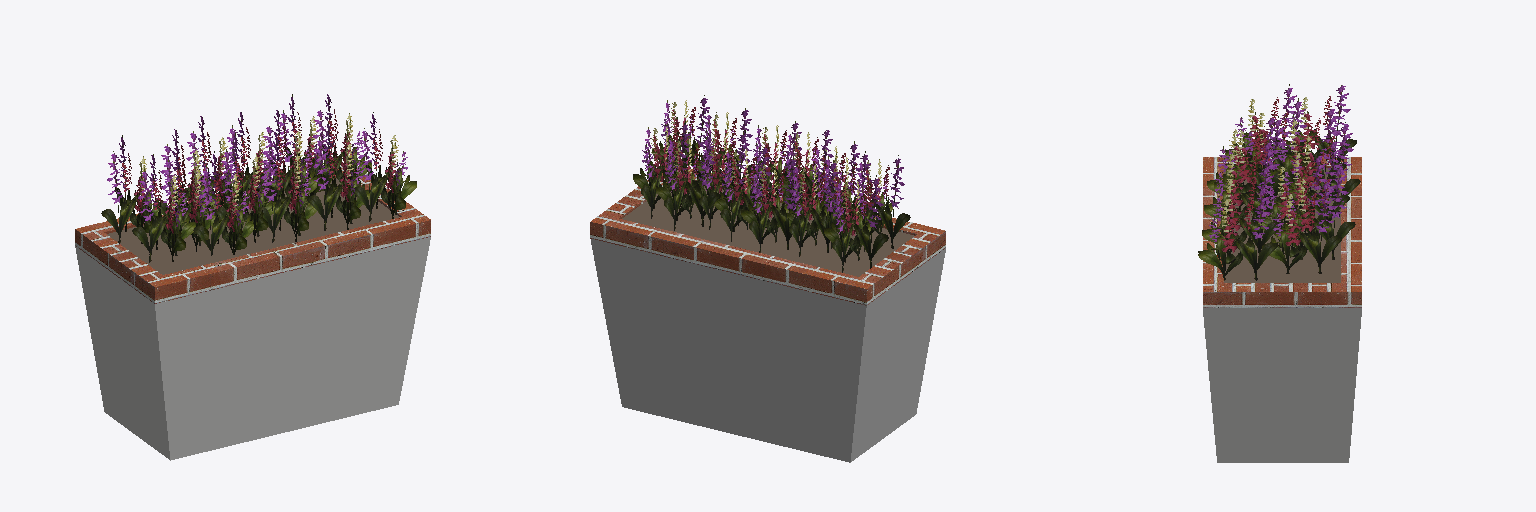
The picture shows the model from 3 angles: view 1: azimuth 30°, elevation 25°; view 2: azimuth 150°, elevation 25°; view 3: azimuth 270°, elevation 25°; orthographic projection.
Visible parts, largest first — view 1: Mesh29 Model, Mesh17 Orchid9 Model, Mesh23 Orchid12 Model, Mesh15 Orchid8 Model, Mesh19 Orchid10 Model, Mesh7 Orchid4 Model, Mesh11 Orchid6 Model, Mesh21 Orchid11 Model, Mesh25 Orchid13 Model, Mesh5 Orchid3 Model, Mesh8 Orchid4 Model, Mesh24 Orchid12 Model (+9 smaller); view 2: Mesh29 Model, Mesh11 Orchid6 Model, Mesh3 Orchid2 Model, Mesh27 Orchid14 Model, Mesh13 Orchid7 Model, Mesh17 Orchid9 Model, Mesh21 Orchid11 Model, Mesh9 Orchid5 Model, Mesh12 Orchid6 Model, Mesh4 Orchid2 Model, Mesh14 Orchid7 Model, Mesh28 Orchid14 Model (+9 smaller); view 3: Mesh29 Model, Mesh24 Orchid12 Model, Mesh22 Orchid11 Model, Mesh8 Orchid4 Model, Mesh28 Orchid14 Model, Mesh20 Orchid10 Model, Mesh26 Orchid13 Model, Mesh6 Orchid3 Model, Mesh14 Orchid7 Model, Mesh4 Orchid2 Model, Mesh12 Orchid6 Model, Mesh10 Orchid5 Model (+3 smaller).
Boxes of the visible parts, x1,y1,x2,y2 form: Mesh29 Model: [75, 165, 430, 460]; Mesh17 Orchid9 Model: [132, 169, 195, 262]; Mesh23 Orchid12 Model: [352, 128, 416, 221]; Mesh15 Orchid8 Model: [193, 170, 256, 255]; Mesh19 Orchid10 Model: [259, 152, 316, 242]; Mesh7 Orchid4 Model: [307, 137, 370, 230]; Mesh11 Orchid6 Model: [101, 151, 161, 243]; Mesh21 Orchid11 Model: [308, 110, 371, 199]; Mesh25 Orchid13 Model: [214, 149, 275, 236]; Mesh5 Orchid3 Model: [257, 126, 320, 201]; Mesh8 Orchid4 Model: [321, 122, 360, 229]; Mesh24 Orchid12 Model: [366, 112, 405, 218]; Mesh29 Model: [590, 167, 945, 462]; Mesh11 Orchid6 Model: [824, 175, 888, 268]; Mesh3 Orchid2 Model: [741, 157, 805, 249]; Mesh27 Orchid14 Model: [656, 133, 720, 226]; Mesh13 Orchid7 Model: [787, 160, 839, 252]; Mesh17 Orchid9 Model: [853, 155, 910, 248]; Mesh21 Orchid11 Model: [633, 121, 696, 214]; Mesh9 Orchid5 Model: [714, 147, 777, 236]; Mesh12 Orchid6 Model: [832, 180, 871, 272]; Mesh4 Orchid2 Model: [749, 161, 788, 252]; Mesh14 Orchid7 Model: [789, 164, 828, 256]; Mesh28 Orchid14 Model: [664, 138, 702, 230]; Mesh29 Model: [1203, 157, 1361, 462]; Mesh24 Orchid12 Model: [1198, 189, 1278, 280]; Mesh22 Orchid11 Model: [1262, 182, 1341, 273]; Mesh8 Orchid4 Model: [1202, 167, 1281, 257]; Mesh28 Orchid14 Model: [1275, 165, 1355, 259]; Mesh20 Orchid10 Model: [1204, 140, 1282, 234]; Mesh26 Orchid13 Model: [1214, 116, 1293, 209]; Mesh6 Orchid3 Model: [1255, 153, 1334, 247]; Mesh14 Orchid7 Model: [1268, 106, 1346, 187]; Mesh4 Orchid2 Model: [1281, 122, 1360, 216]; Mesh12 Orchid6 Model: [1282, 85, 1356, 168]; Mesh10 Orchid5 Model: [1279, 140, 1349, 220].
Size of the model in its own units: 1.24 by 1.28 by 0.6525.
Materials: 4 (2 with a texture image).